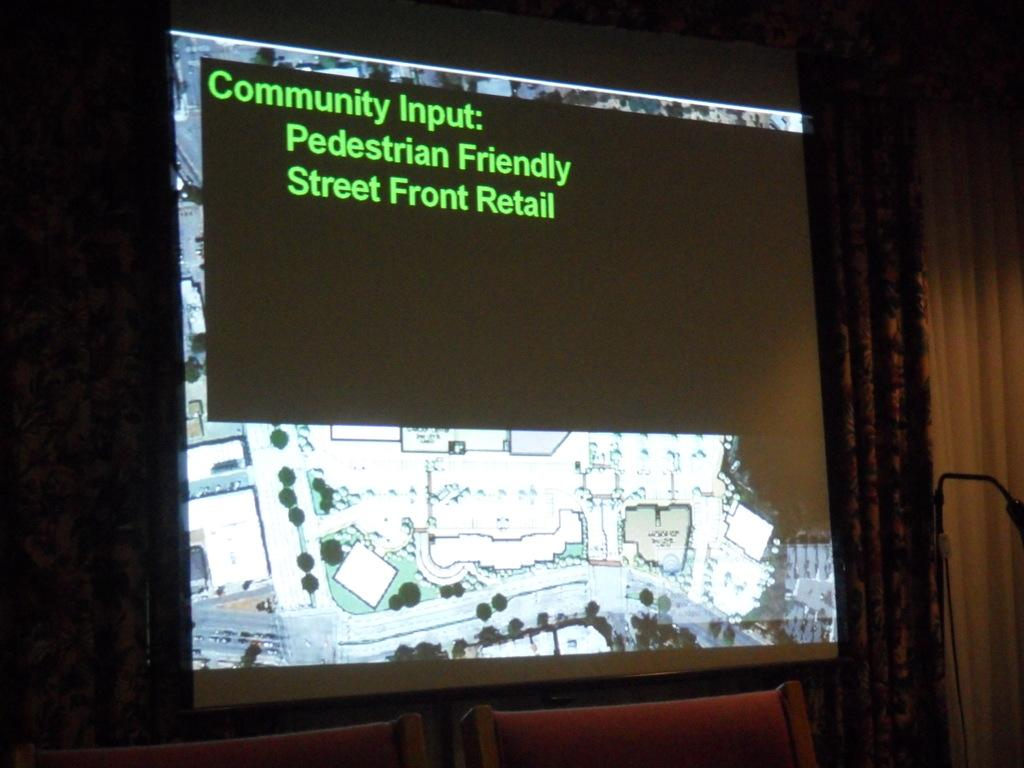Computer-monitor: (134, 45, 893, 768)
